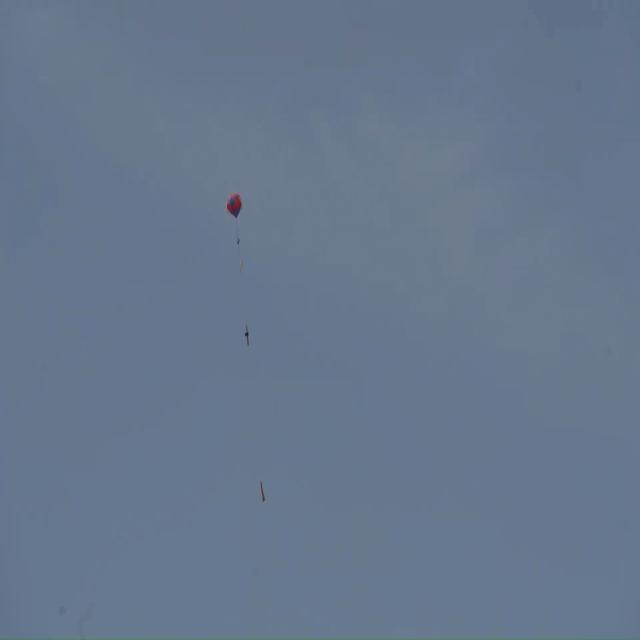Rocket: (260, 481, 266, 502)
